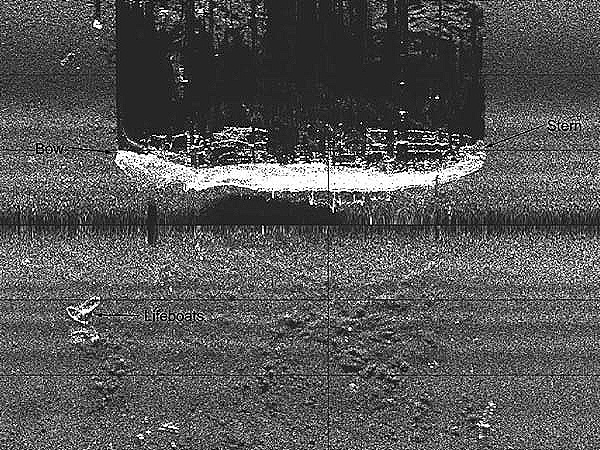ship: (111, 126, 488, 195)
